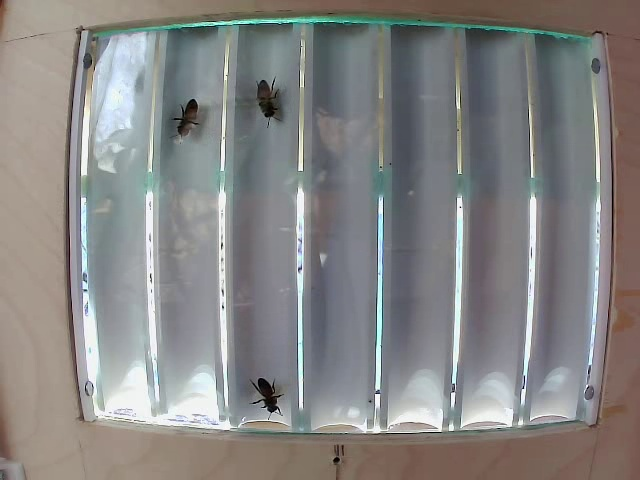bee: (158, 88, 208, 153), (239, 74, 299, 128), (246, 373, 284, 412)
